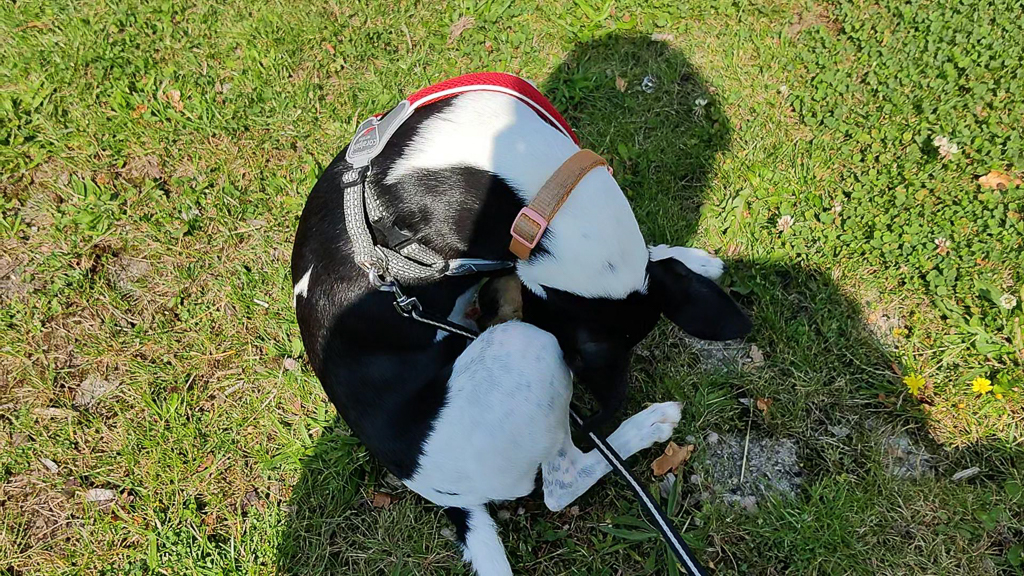Dog: (267, 55, 773, 576)
